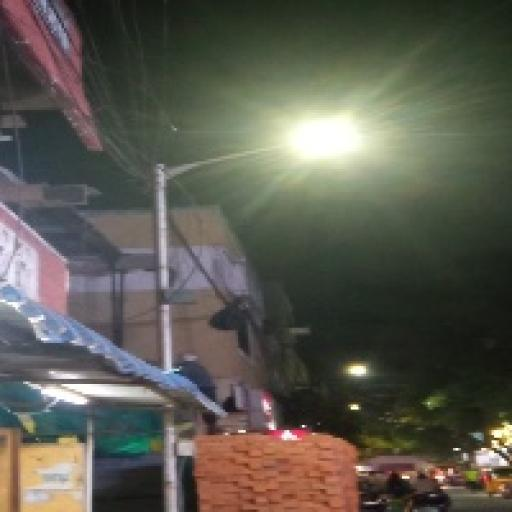Working: (274, 100, 374, 172)
